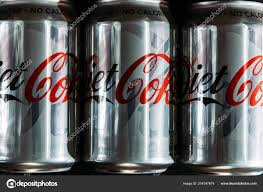can: (76, 0, 179, 174), (182, 0, 262, 172), (0, 1, 71, 177)
